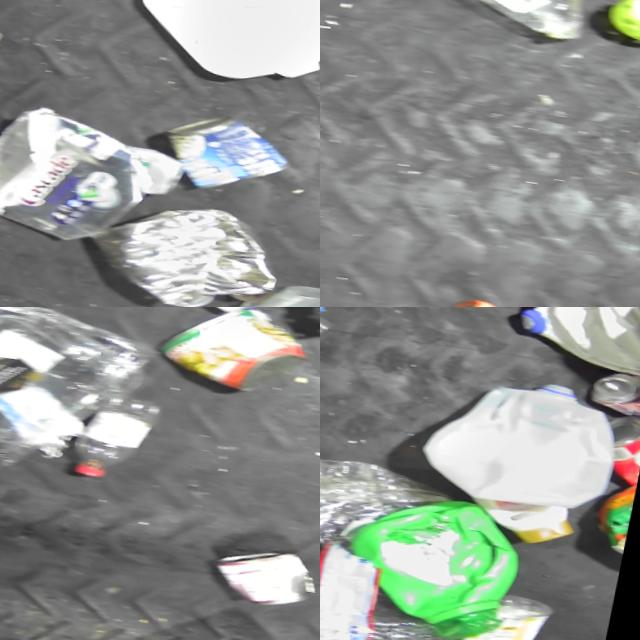can: (162, 307, 320, 406), (159, 106, 306, 209), (209, 537, 320, 618), (588, 371, 640, 422), (606, 416, 640, 489)
milk_jug: (424, 370, 633, 519), (509, 307, 640, 381)
non_white_jug: (337, 489, 533, 640)
plastic_bottle: (62, 389, 179, 494), (434, 0, 597, 53), (320, 587, 454, 640), (447, 588, 561, 640)
